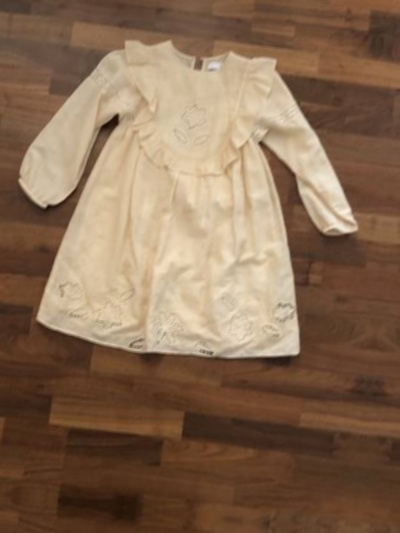Dress: (0, 8, 372, 407), (0, 0, 1, 365)
